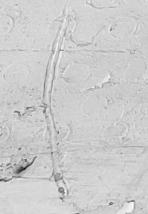scratch: (1, 0, 148, 213)
